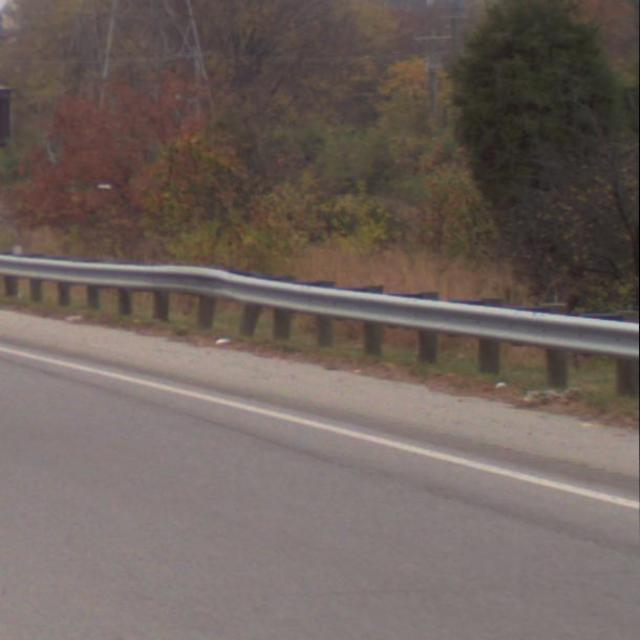Guard rail: (0, 247, 640, 405)
